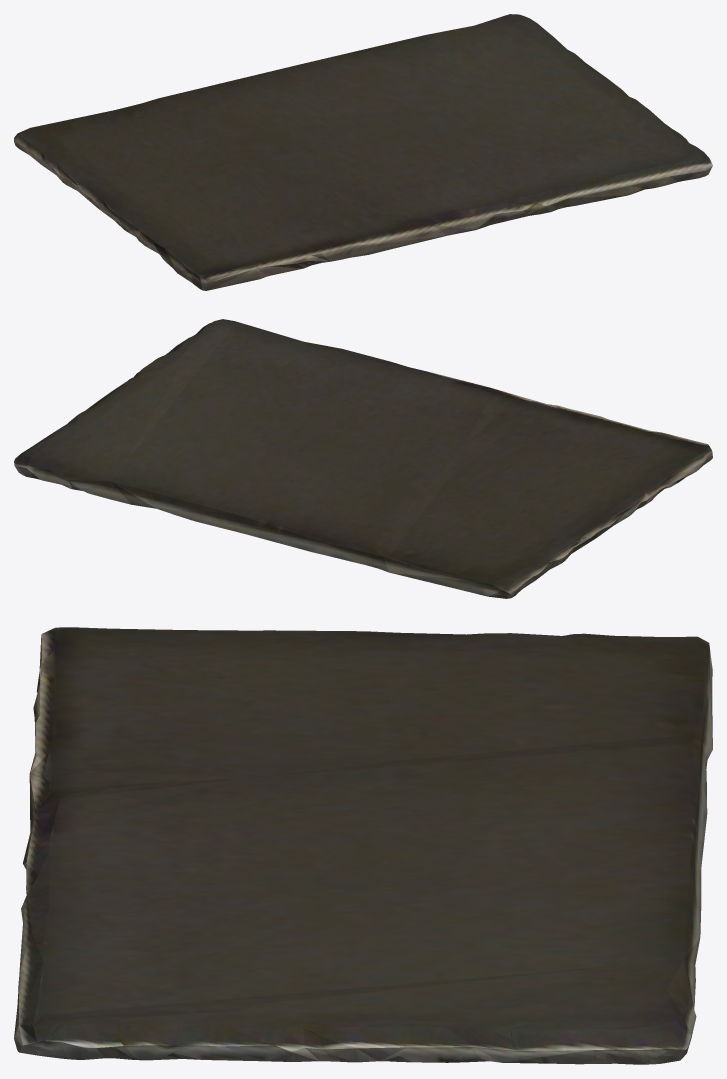
Rendered from SurfaceScreen.obj.
3 renders of one model, top to bottom at view 1: azimuth 30°, elevation 25°; view 2: azimuth 150°, elevation 25°; view 3: azimuth 270°, elevation 25°, orthographic. The views are drawn at different scales.
Size of the model in its own units: 103 by 3.59 by 71.66.
1 material, 1 textured.
